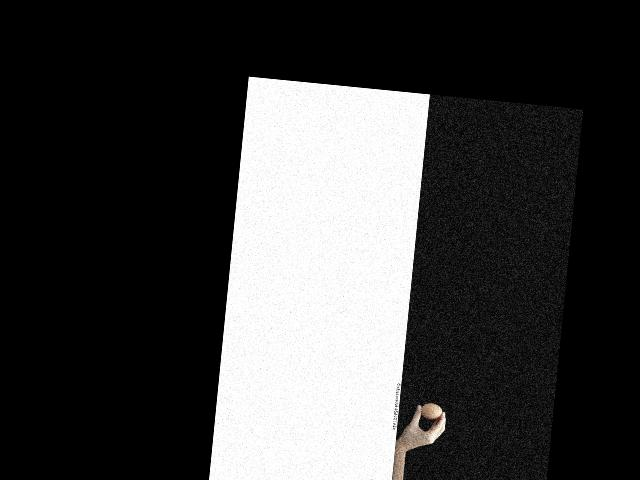egg: (420, 402, 443, 420)
